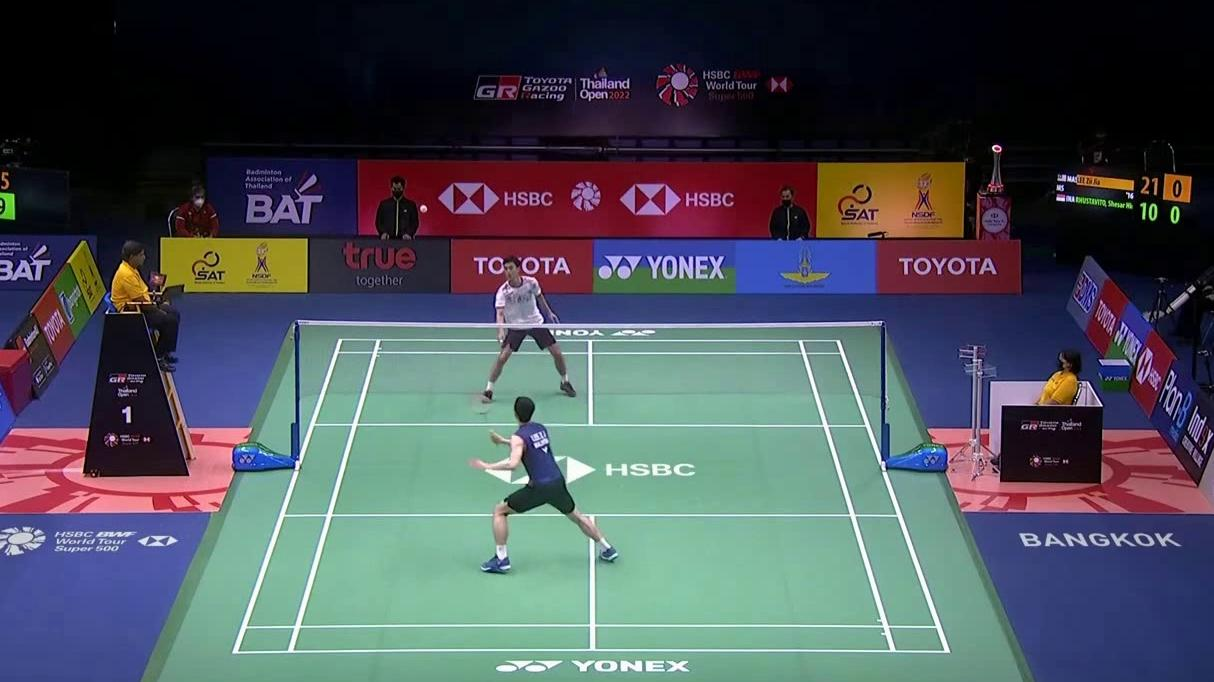racket: (469, 394, 501, 444), (497, 334, 513, 367)
shuttle: (419, 203, 427, 213)
